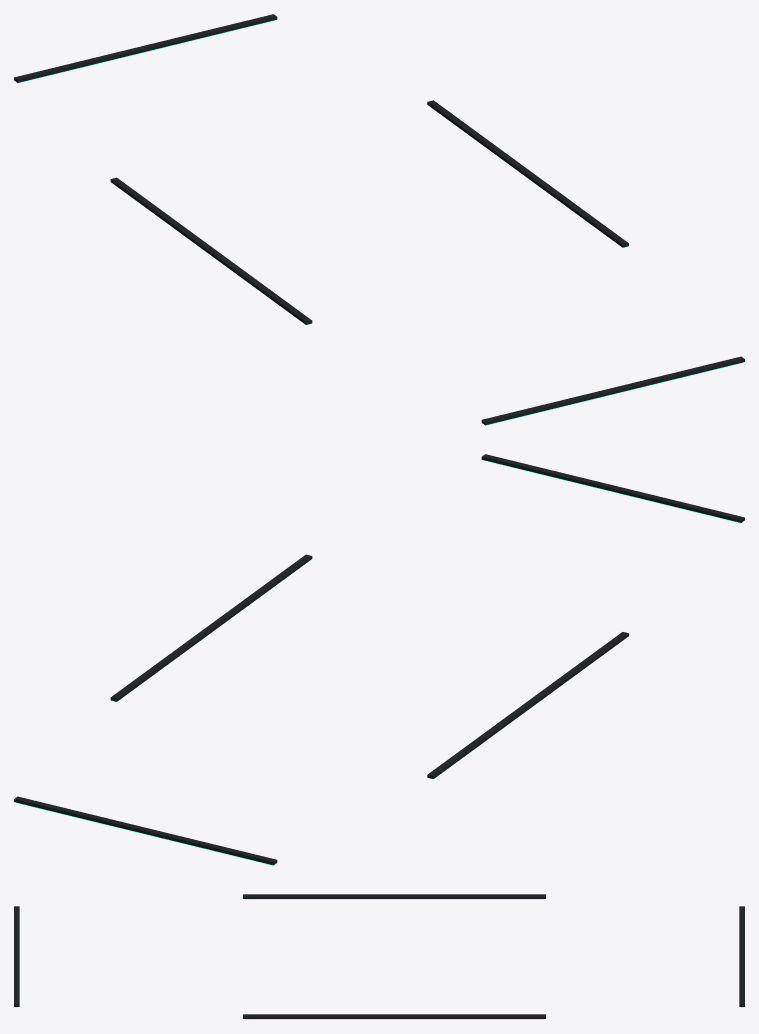
File: hana_roadster.glb
The picture shows the model from 3 angles, top to bottom: view 1: azimuth 30°, elevation 25°; view 2: azimuth 150°, elevation 25°; view 3: azimuth 270°, elevation 25°; orthographic projection. The views are drawn at different scales.
Parts seen in each view (by area): view 1: model; view 2: model; view 3: model.
Part boxes in pixels (x1,y1,x2,y2): model: (14, 14, 744, 425); model: (14, 454, 744, 865); model: (14, 894, 744, 1019).
Bounding box in the file's own units: 1.43 × 0.0181 × 3.61.
2 materials, 1 textured.
